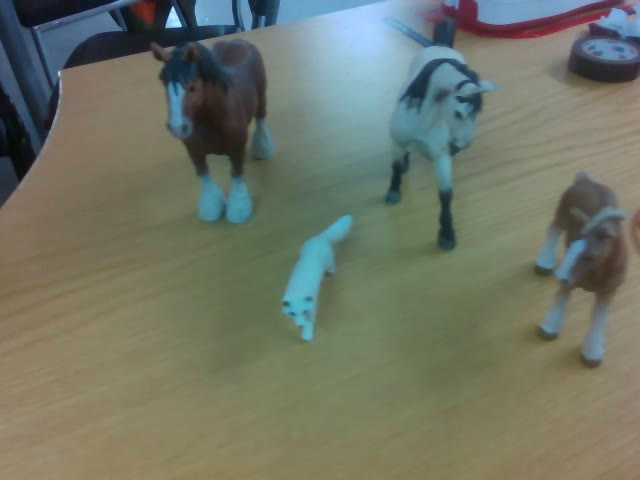toy: (386, 19, 495, 251), (149, 37, 274, 223), (533, 168, 629, 368), (279, 215, 355, 343)
